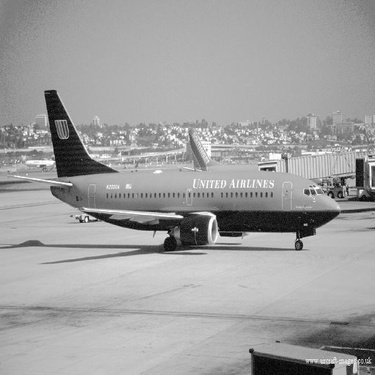airplane: (15, 71, 339, 259)
